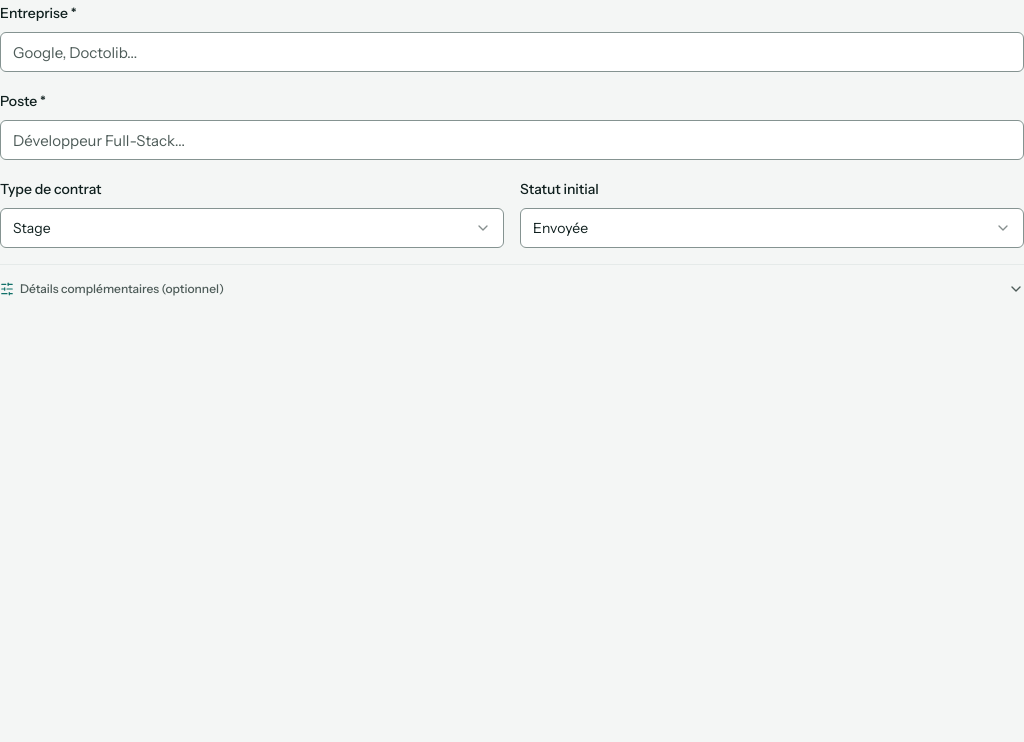
Test: Sprint 1 - TICK-103: Quick Add Application Form › toggles collapsible optional fields when clicking the toggle button
Expected: the field labelled "Localisation" is not shown
Expected: the field labelled "URL de l'annonce" is not shown
Click toggle
What coordinates should you click on to do the following:
click the button "Détails complémentaires (optionnel)"
I would click on:
 (122, 288)
Its box is [0,273,1023,305].
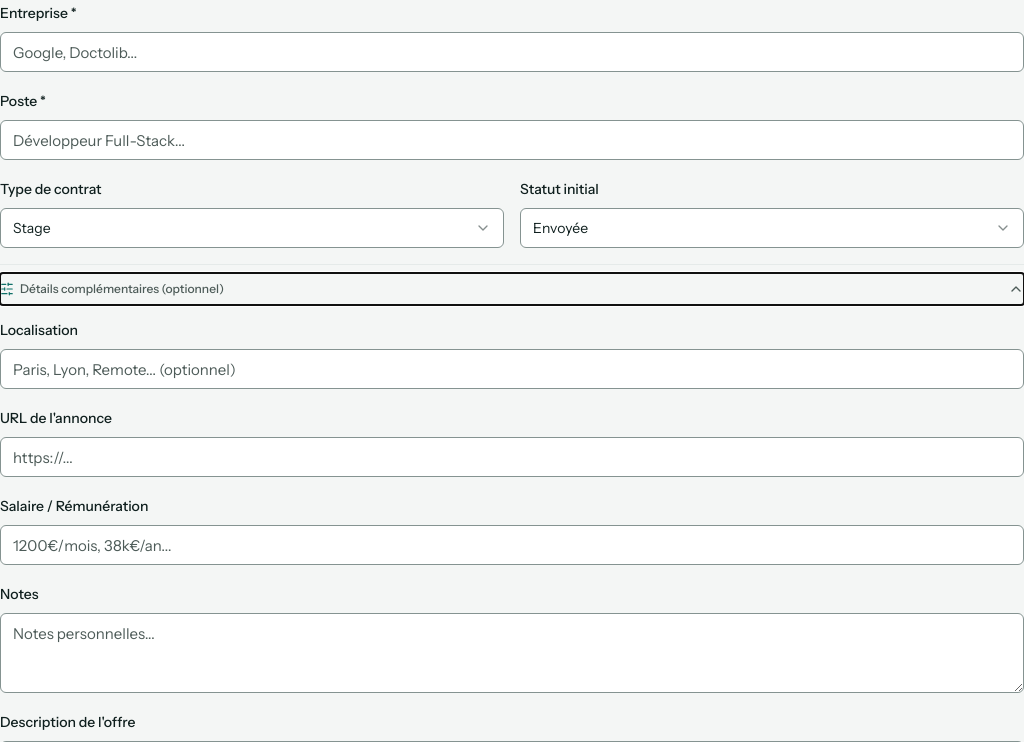
Expected: the field labelled "Localisation" is shown, [0,349,1023,389]
Expected: the field labelled "URL de l'annonce" is shown, [0,437,1023,477]
Expected: the field labelled "Salaire / Rémunération" is shown, [0,525,1023,565]
Click toggle again to close
What coordinates should you click on to do the following:
click the button "Détails complémentaires (optionnel)"
I would click on:
 (122, 288)
Its box is [0,273,1023,305].
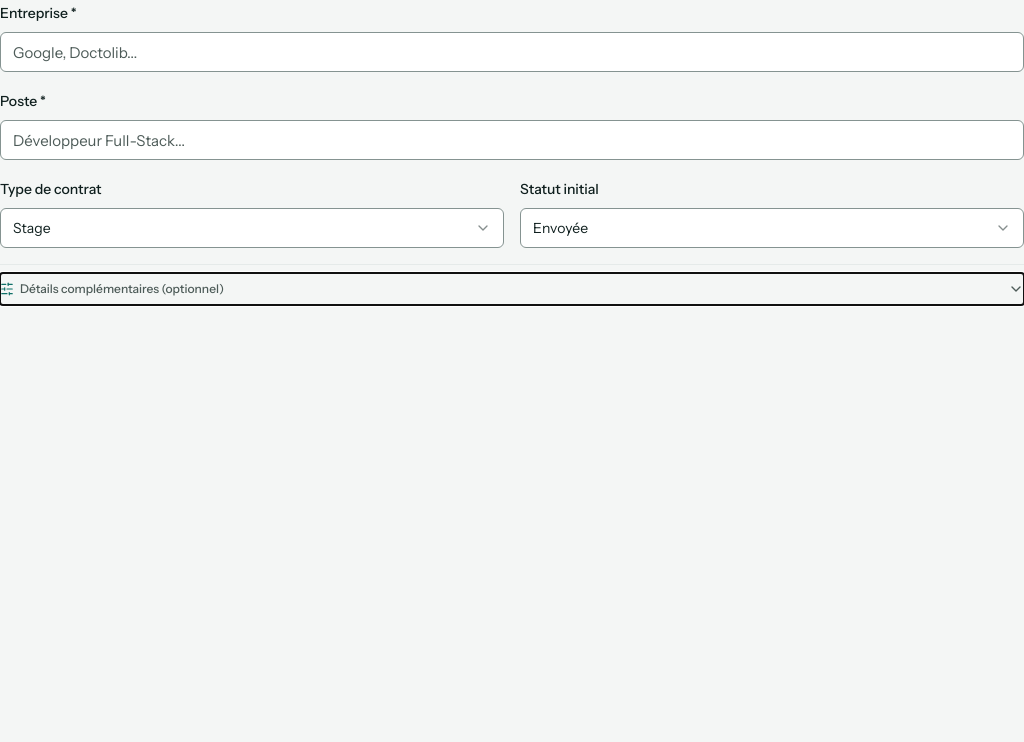
Expected: the label labelled "Localisation" is gone
